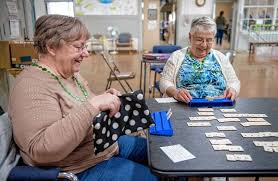Caution: (10, 13, 241, 163)
